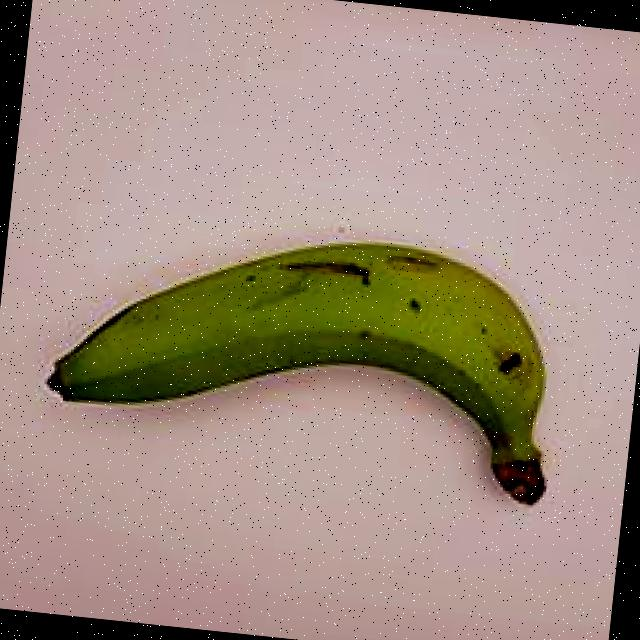Raw: (25, 177, 611, 548)
